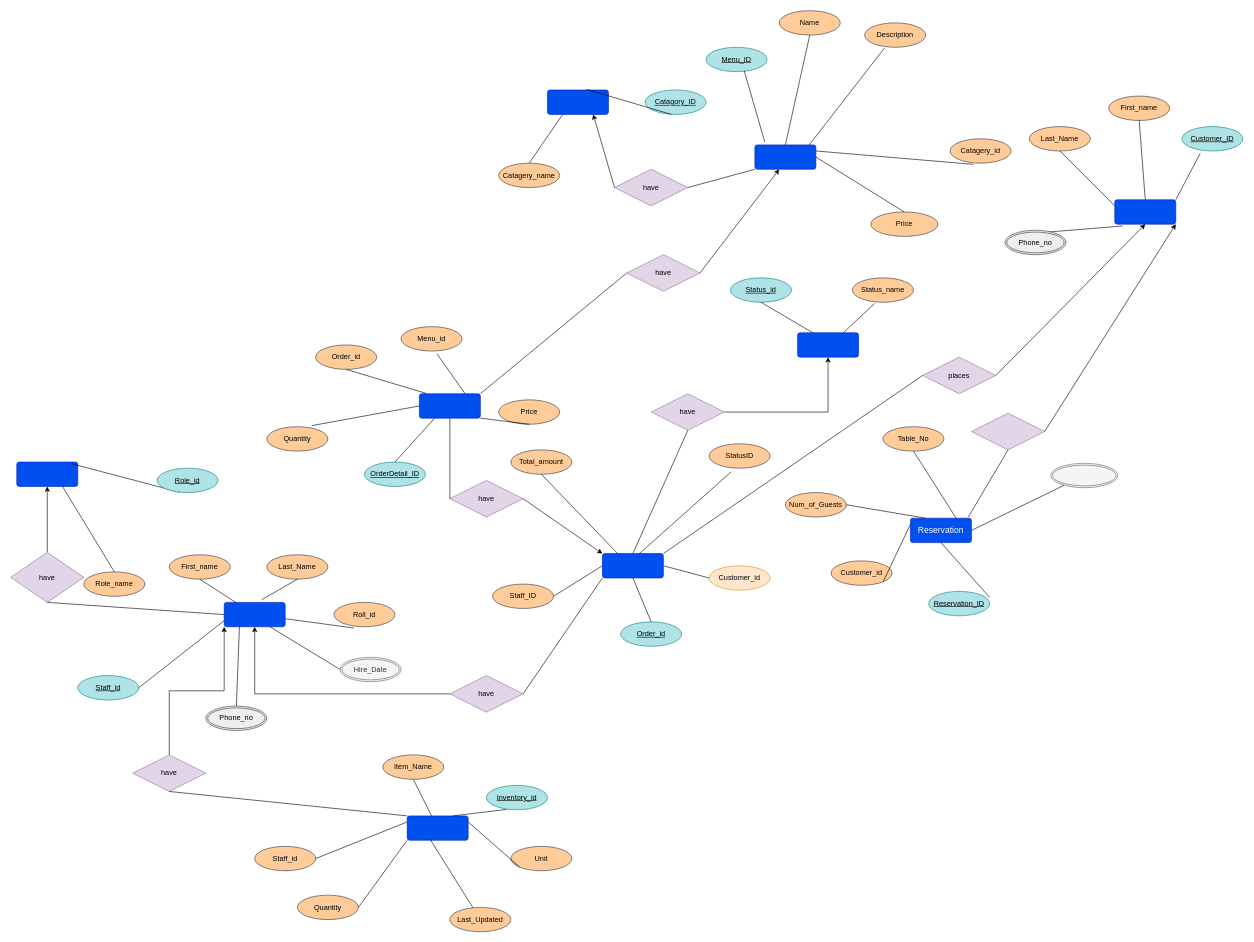
This 1254x942 diagram has some shape labels left out. Each missing label, with the centre of its shape:
"Catagery" goes at (x=577, y=101).
"customer" goes at (x=1145, y=211).
"Inventory" goes at (x=437, y=827).
"makes" goes at (x=1008, y=431).
"Menu_items" goes at (x=785, y=156).
"Order" goes at (x=632, y=565).
"Order_Detail" goes at (x=449, y=405).
"Order_status" goes at (x=828, y=344).
"Reservation_Date" goes at (x=1084, y=475).
"Roles" goes at (x=47, y=473).
"Staff" goes at (x=254, y=614).
